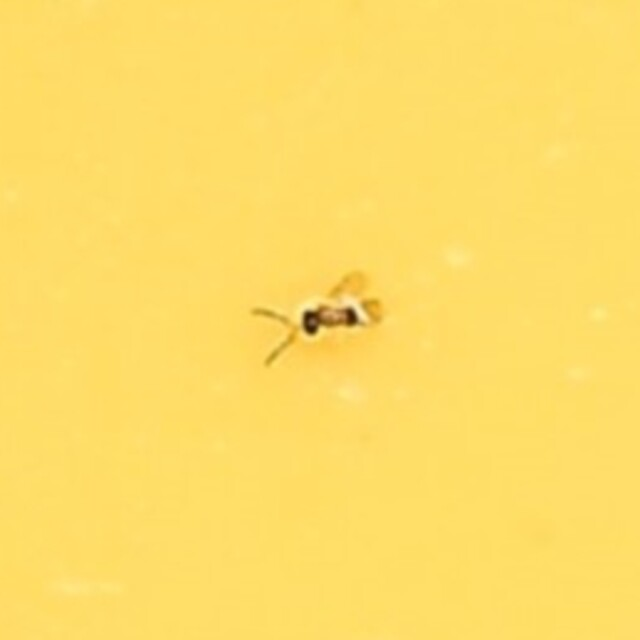Hymenoptera: (247, 269, 393, 371)
